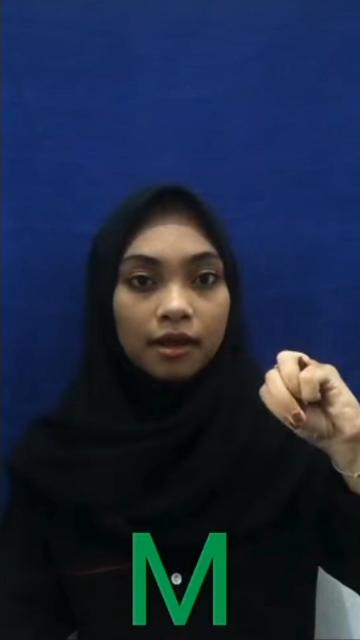M: (256, 344, 360, 501)
